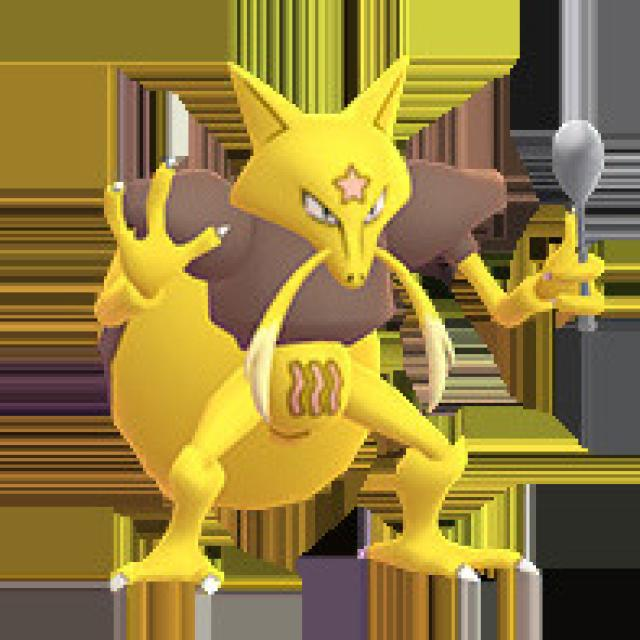Kadabra: (97, 54, 617, 589)
